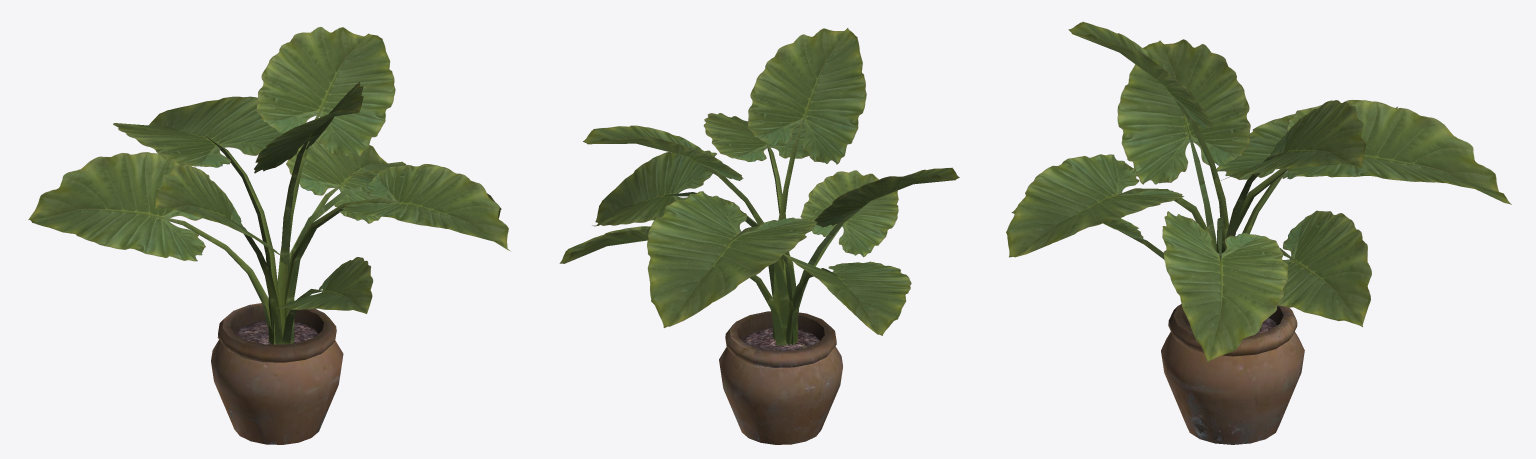
Rendered from Plant.glb.
The picture shows the model from 3 angles, left to right: view 1: azimuth 30°, elevation 25°; view 2: azimuth 150°, elevation 25°; view 3: azimuth 270°, elevation 25°; orthographic projection. The views are drawn at different scales.
Visible parts, largest first — view 1: leaves_01 - Default_0, pot_01 - Default_0; view 2: leaves_01 - Default_0, pot_01 - Default_0; view 3: leaves_01 - Default_0, pot_01 - Default_0.
Boxes of the visible parts, left/top/right/bottom form: leaves_01 - Default_0: left=28, top=27, right=510, bottom=344; pot_01 - Default_0: left=211, top=303, right=343, bottom=444; leaves_01 - Default_0: left=559, top=28, right=959, bottom=345; pot_01 - Default_0: left=719, top=311, right=842, bottom=444; leaves_01 - Default_0: left=1006, top=22, right=1511, bottom=362; pot_01 - Default_0: left=1161, top=304, right=1304, bottom=444.
Size of the model in its own units: 72.17 by 63.86 by 73.94.
2 materials, 2 textured.
